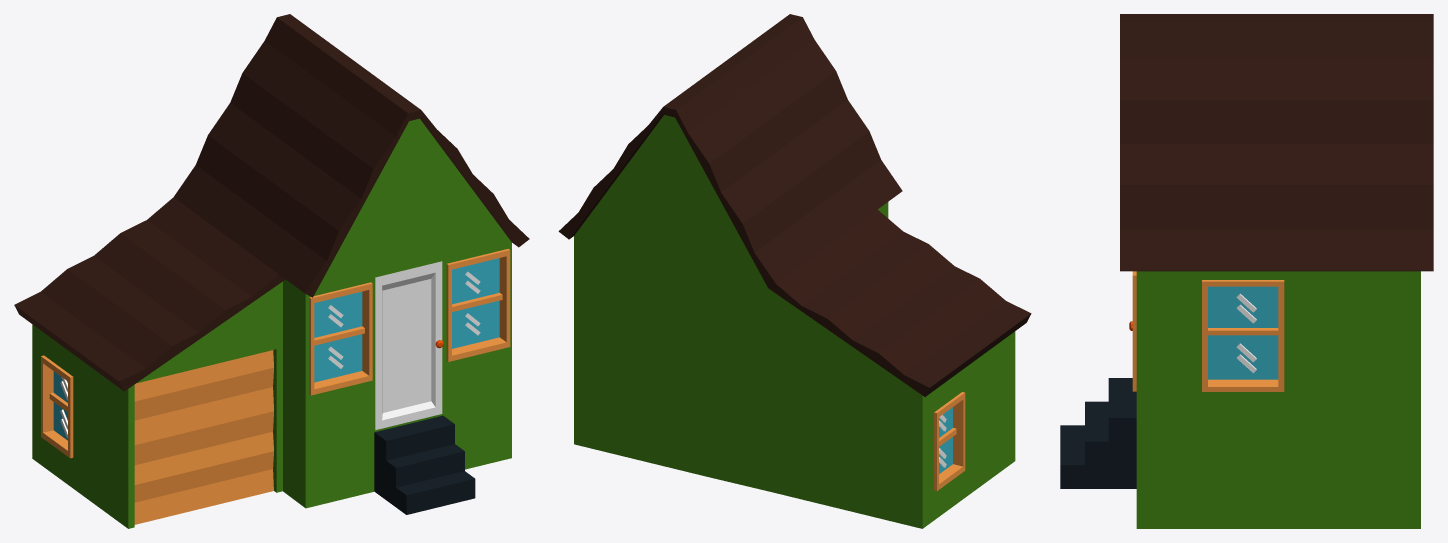
The model's file is House_01.obj.
3 views of the same model, side by side, from view 1: azimuth 30°, elevation 25°; view 2: azimuth 150°, elevation 25°; view 3: azimuth 270°, elevation 25° (orthographic). The views are drawn at different scales.
Visible parts, largest first — view 1: House_Cube.028; view 2: House_Cube.028; view 3: House_Cube.028.
Boxes of the visible parts, x1,y1,x2,y2 form: House_Cube.028: (14, 14, 529, 528); House_Cube.028: (558, 14, 1031, 528); House_Cube.028: (1060, 14, 1433, 528).
Bounding box in the file's own units: 10.6 × 9.93 × 7.46.
